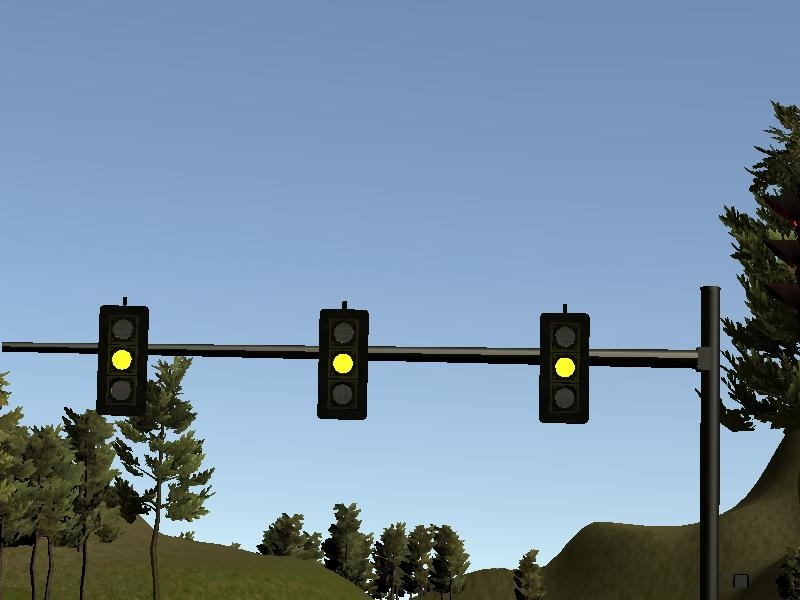YELLOW: (535, 303, 593, 424), (94, 298, 150, 417), (316, 301, 372, 420)
